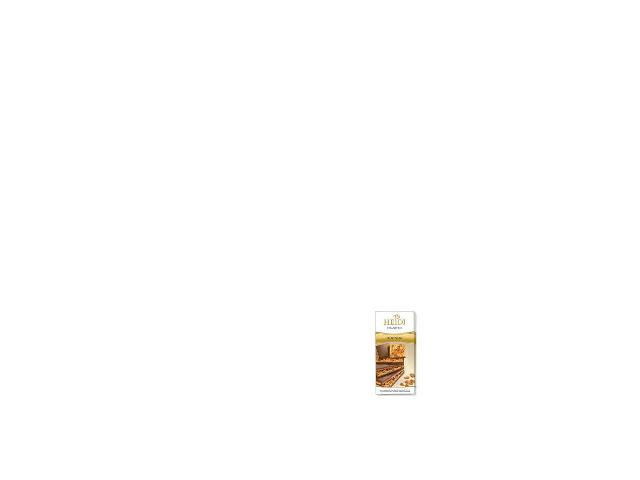chocolate: (367, 306, 432, 398)
